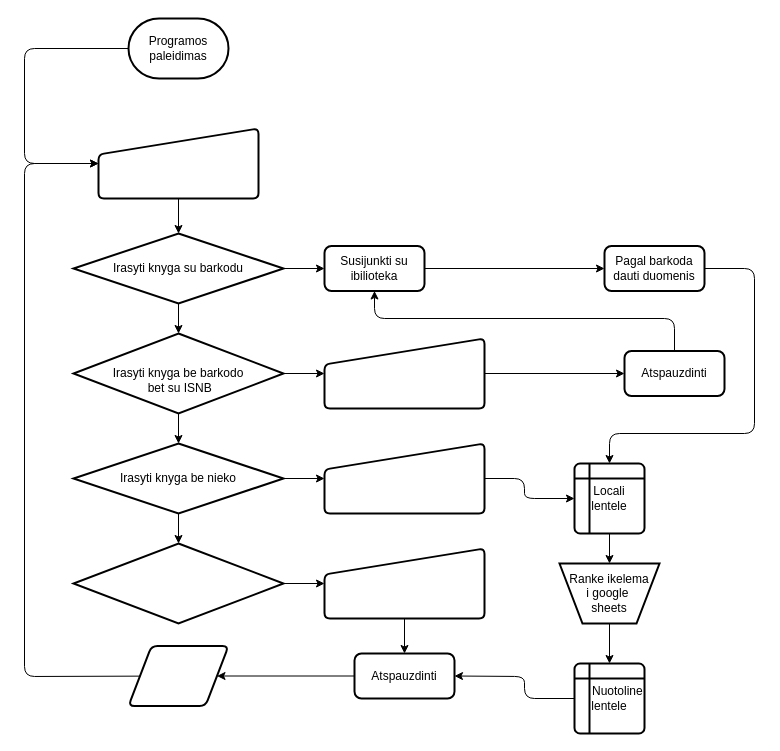
The diagram is 780 pixels wide and 751 high, and some of its shapes have lost their labels. Here are the shapes that lost their labels. From the top down, the box of each, then its label:
(97, 127, 259, 199): Pasirinkite kokia funcija norite atlikti
(323, 337, 485, 409): Ranka nurasyti barkoda
(323, 442, 485, 514): Ranka nurasyti duomenis
(72, 542, 284, 624): Patikrinti knygas esancias duomenu bazeja
(323, 547, 485, 619): ISNB kodas
(127, 644, 229, 706): Atspauzdinti duoemis
